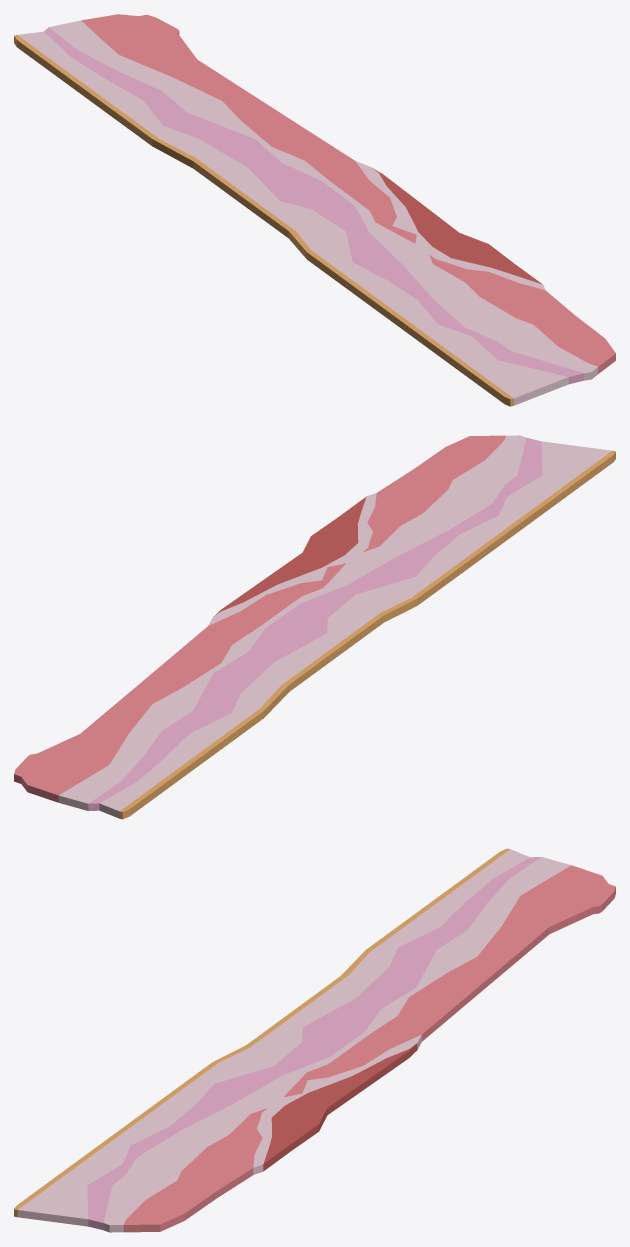
The model's file is Bacon.fbx.
3 renders of one model, top to bottom at view 1: azimuth 30°, elevation 25°; view 2: azimuth 150°, elevation 25°; view 3: azimuth 330°, elevation 25°, orthographic.
Visible parts, largest first — view 1: Bacon; view 2: Bacon; view 3: Bacon.
Part boxes in pixels (x1,y1,x2,y2): Bacon: (14,14,615,406); Bacon: (14,435,615,819); Bacon: (14,848,615,1232).
Size of the model in its own units: 136 by 6.67 by 811.
